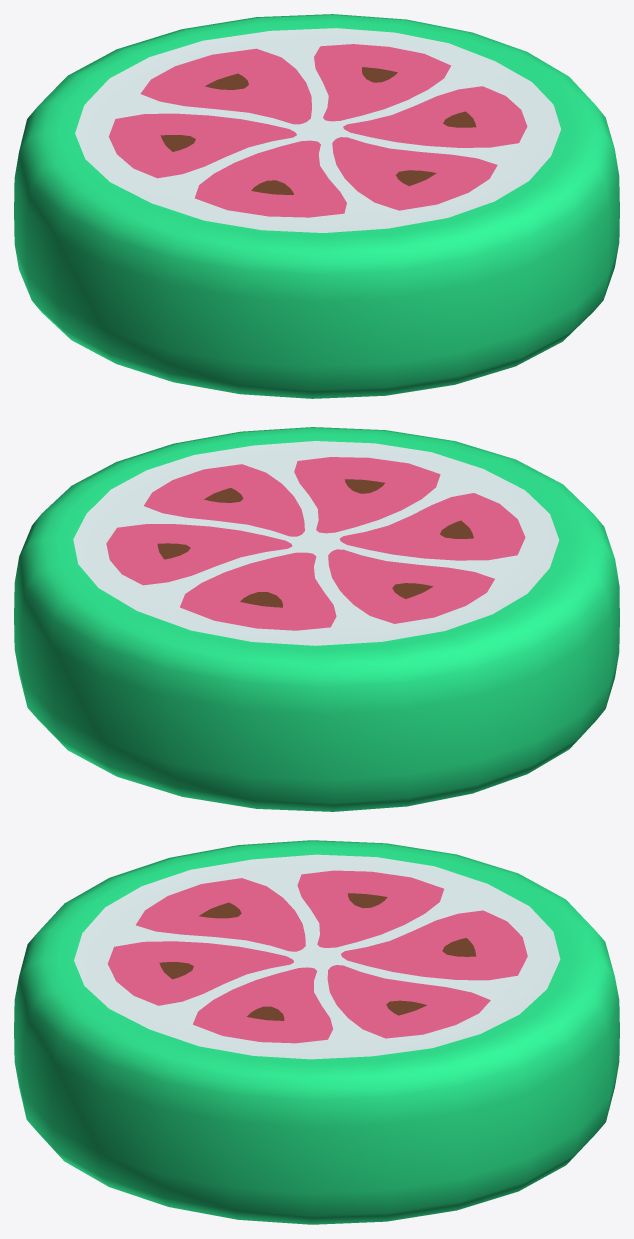
The model's file is Gummy_C_02.fbx.
3 views of the same model, one above another, from view 1: azimuth 30°, elevation 25°; view 2: azimuth 150°, elevation 25°; view 3: azimuth 270°, elevation 25° (orthographic).
Visible parts, largest first — view 1: Gummy_C_02_LOD0; view 2: Gummy_C_02_LOD0; view 3: Gummy_C_02_LOD0.
Part boxes in pixels (left/top/right/bottom): Gummy_C_02_LOD0: left=14, top=14, right=619, bottom=398; Gummy_C_02_LOD0: left=14, top=427, right=619, bottom=811; Gummy_C_02_LOD0: left=14, top=840, right=619, bottom=1224.
Size of what is drawn, in the model's own units: 512 by 143 by 513.
